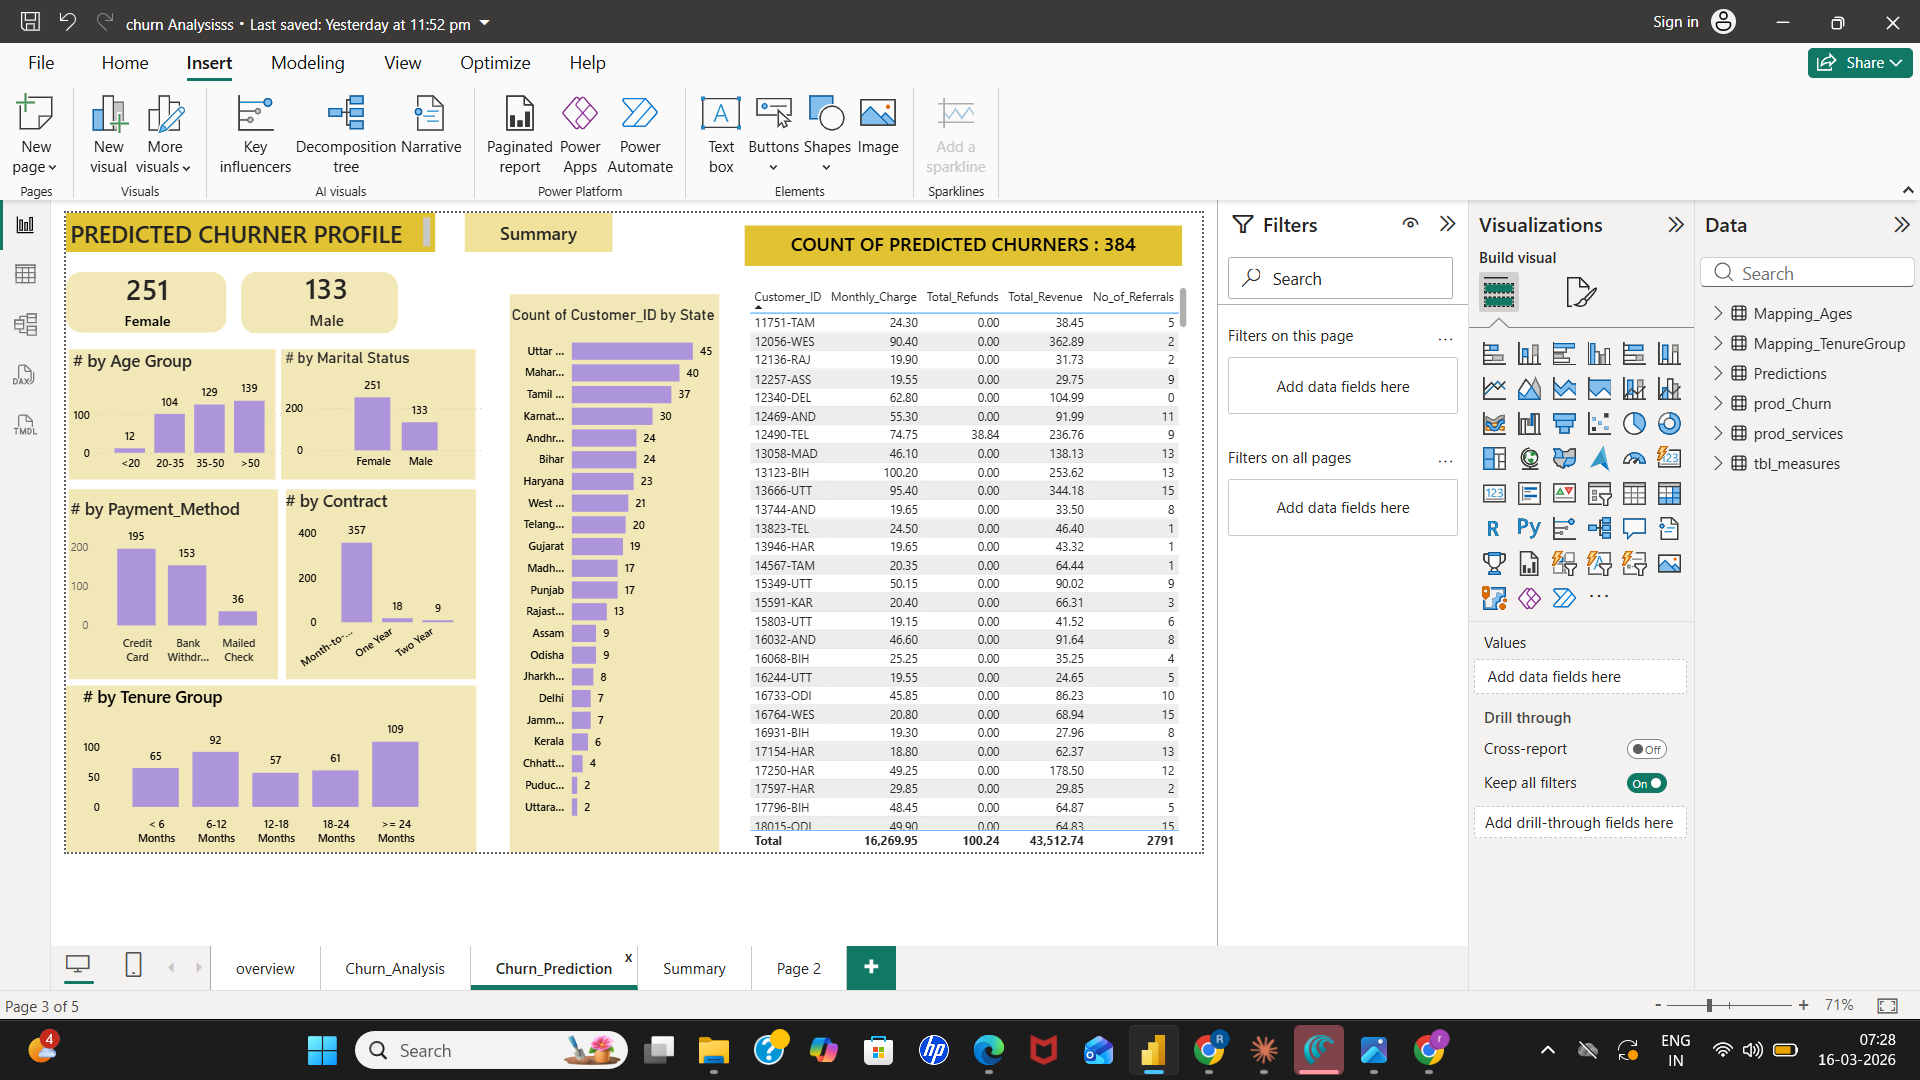

What the dashboard file says about the page in this screenshot:
{"tool":"powerbi","page":{"name":"Churn_Prediction","canvas":[1280,720],"ordinal":2},"visuals":[{"type":"shape","box":[197.6,65.9,177,70],"z":0},{"type":"shape","box":[0,65.9,181.1,68.6],"z":1000},{"type":"shape","box":[0,532.4,462.4,188],"z":2000},{"type":"shape","box":[248.4,311.5,214.1,214.1],"z":3000},{"type":"shape","box":[499.5,91.9,236,628.5],"z":4000},{"type":"clusteredBarChart","fields":{"Category":["Predictions.State"],"Y":["CountNonNull(Predictions.Customer_ID)"]},"box":[496.7,104.3,238.8,590.1],"z":5000},{"type":"shape","box":[242.9,153.7,219.6,146.8],"z":6000},{"type":"tableEx","fields":{"Values":["Predictions.Customer_ID","Sum(Predictions.Monthly_Charge)","Sum(Predictions.Total_Refunds)","Sum(Predictions.Total_Revenue)","Sum(Predictions.Number_of_Referrals)"]},"box":[764.3,78.2,503.6,642.2],"z":7000},{"type":"card","fields":{"Values":["tbl_measures.Title Predicted Churners"]},"box":[764.3,13.7,492.6,45.3],"z":8000},{"type":"card","fields":{"Values":["tbl_measures.Count Predicted Churner"]},"box":[2.7,57.6,178.4,78.2],"z":9000},{"type":"clusteredColumnChart","title":"# by Contract","fields":{"Y":["CountNonNull(Predictions.Customer_ID)"],"Category":["Predictions.Contract"]},"box":[242.9,311.5,219.6,214.1],"z":10000},{"type":"card","fields":{"Values":["tbl_measures.Count Predicted Churner"]},"box":[197.6,50.8,193.5,91.9],"z":11000},{"type":"textbox","box":[0,0,415.8,43.9],"z":12000},{"type":"shape","box":[2.7,311.5,236,214.1],"z":13000},{"type":"clusteredColumnChart","title":"# by Marital Status","fields":{"Y":["CountNonNull(Predictions.Customer_ID)"],"Category":["Predictions.Gender"]},"box":[242.9,153.7,231.9,144.1],"z":14000},{"type":"clusteredColumnChart","title":"# by  Tenure Group","fields":{"Y":["CountNonNull(Predictions.Customer_ID)"],"Category":["Mapping_TenureGroup. Tenure Group"]},"box":[13.7,532.4,417.2,188],"z":15000},{"type":"shape","box":[2.7,153.7,233.3,146.8],"z":16000},{"type":"clusteredColumnChart","title":"#  by Age Group","fields":{"Category":["Mapping_Ages.Age Group"],"Y":["CountNonNull(Predictions.Customer_ID)"]},"box":[2.7,153.7,245.6,146.8],"z":17000},{"type":"clusteredColumnChart","title":"# by Payment_Method","fields":{"Y":["CountNonNull(Predictions.Customer_ID)"],"Category":["Predictions.Payment_Method"]},"box":[0,319.7,245.6,196.2],"z":18000},{"type":"actionButton","box":[449.3,0,166.2,43.7],"z":18001}]}

Visuals, with their boxes on the page's 1280x720 design canvas (x1, y1, x2, y2). These are canvas units, not pixel positions in the 1920x1080 screenshot, which may show the page scaled, cropped or inside an application window:
shape: 198 66 375 136
shape: 0 66 181 134
shape: 0 532 462 720
shape: 248 312 462 526
shape: 500 92 736 720
clusteredBarChart - Predictions.State x CountNonNull(Predictions.Customer_ID): 497 104 736 694
shape: 243 154 462 300
tableEx - Predictions.Customer_ID x Sum(Predictions.Monthly_Charge): 764 78 1268 720
card - tbl_measures.Title Predicted Churners: 764 14 1257 59
card - tbl_measures.Count Predicted Churner: 3 58 181 136
"# by Contract" clusteredColumnChart: 243 312 462 526
card - tbl_measures.Count Predicted Churner: 198 51 391 143
textbox: 0 0 416 44
shape: 3 312 239 526
"# by Marital Status" clusteredColumnChart: 243 154 475 298
"# by  Tenure Group" clusteredColumnChart: 14 532 431 720
shape: 3 154 236 300
"#  by Age Group" clusteredColumnChart: 3 154 248 300
"# by Payment_Method" clusteredColumnChart: 0 320 246 516
actionButton: 449 0 616 44
